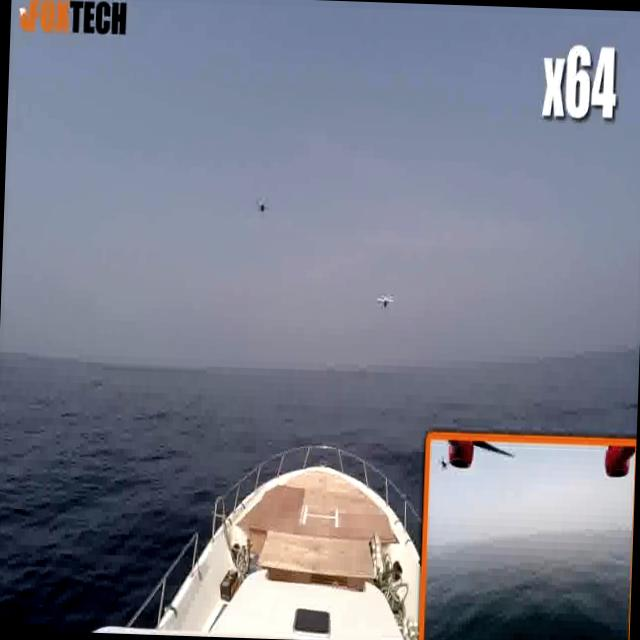drone: (376, 290, 394, 309)
